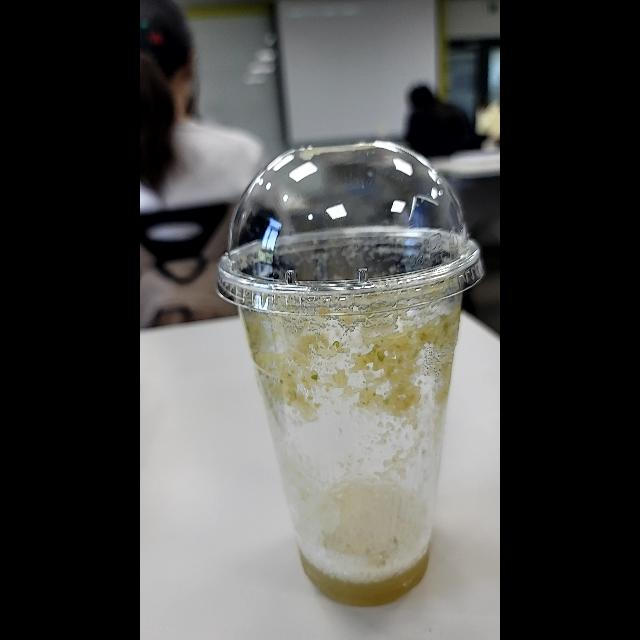plastic_cup: (212, 137, 488, 608)
plastic_cup_lid: (214, 136, 486, 320)
